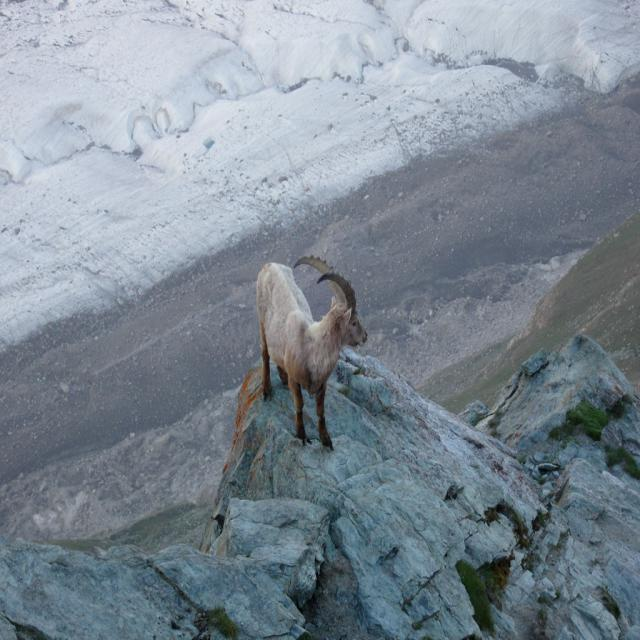Goat: (257, 257, 369, 450)
